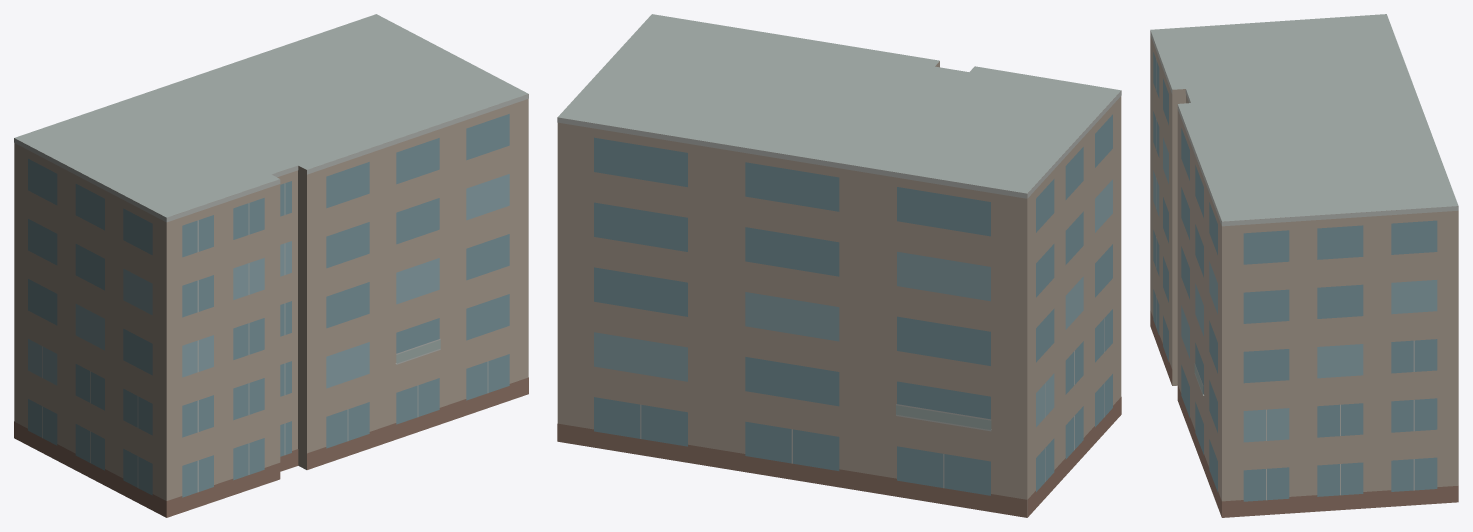
File: survey-upis-33026499.glb
The picture shows the model from 3 angles, left to right: view 1: azimuth 30°, elevation 25°; view 2: azimuth 150°, elevation 25°; view 3: azimuth 270°, elevation 25°; orthographic projection. The views are drawn at different scales.
Visible parts, largest first — view 1: survey-upis-33026499.tmp; view 2: survey-upis-33026499.tmp; view 3: survey-upis-33026499.tmp.
Boxes of the visible parts, <box> form: survey-upis-33026499.tmp: <box>14,14,528,517</box>; survey-upis-33026499.tmp: <box>557,14,1121,517</box>; survey-upis-33026499.tmp: <box>1150,14,1458,517</box>.
Bounding box in the file's own units: 22.93 × 15.25 × 14.39.
